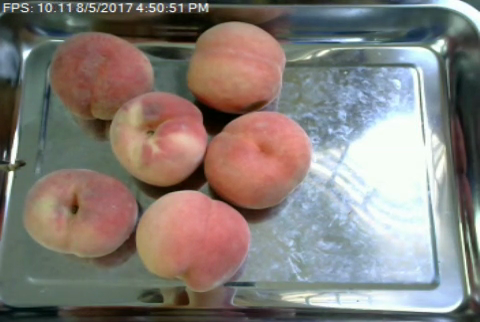Peach: (135, 190, 248, 289), (204, 110, 310, 209), (22, 168, 137, 257), (105, 90, 209, 187), (47, 30, 155, 122), (186, 20, 284, 113)
